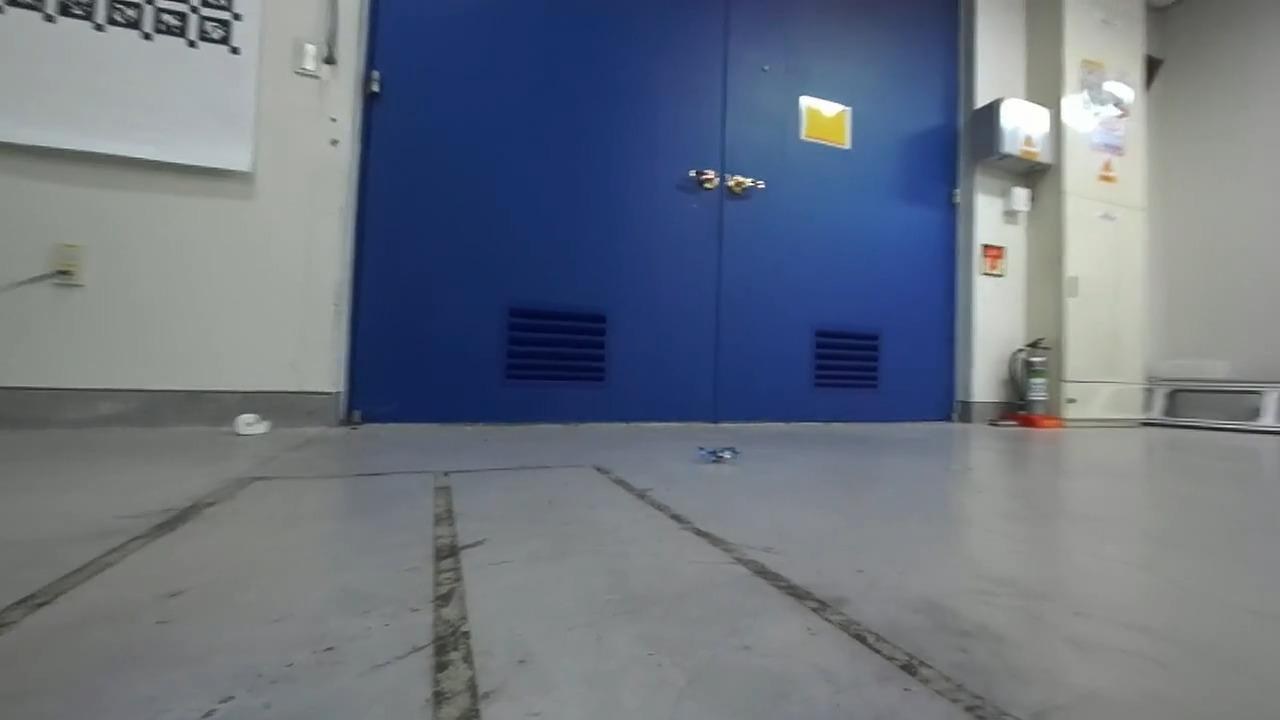crazyflie: (689, 438, 748, 469)
